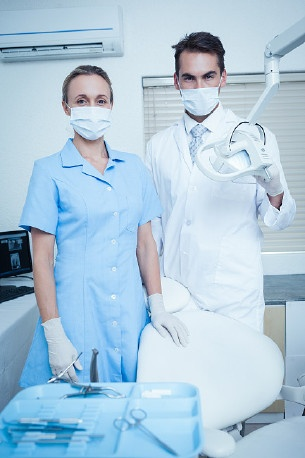Mask: (66, 89, 118, 141)
